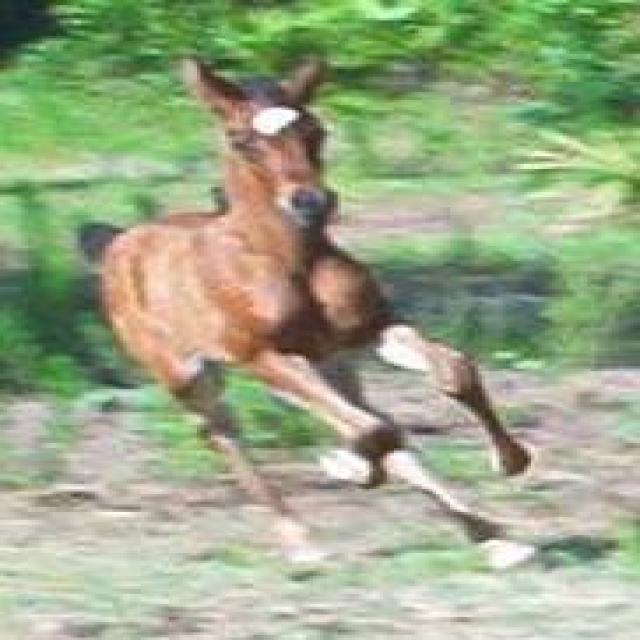horse: (89, 58, 535, 570)
